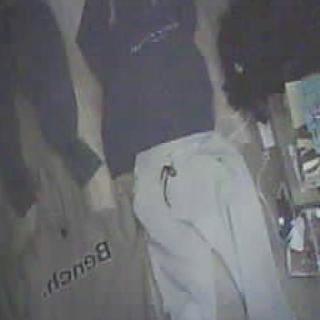Blue Hoodie: (92, 0, 218, 154)
Blue Sweatpants: (0, 0, 83, 186)
White Sweatpants: (124, 132, 292, 320)
Yellow Hoodie: (14, 166, 130, 320)
